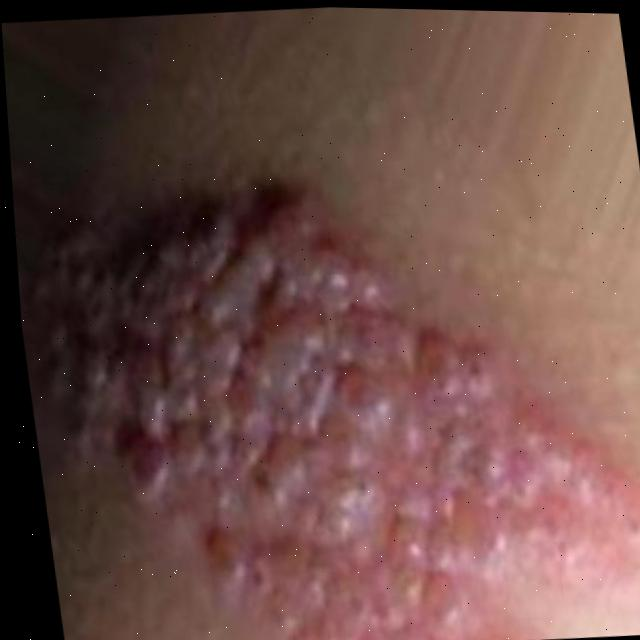Shingles: (12, 157, 640, 640)
